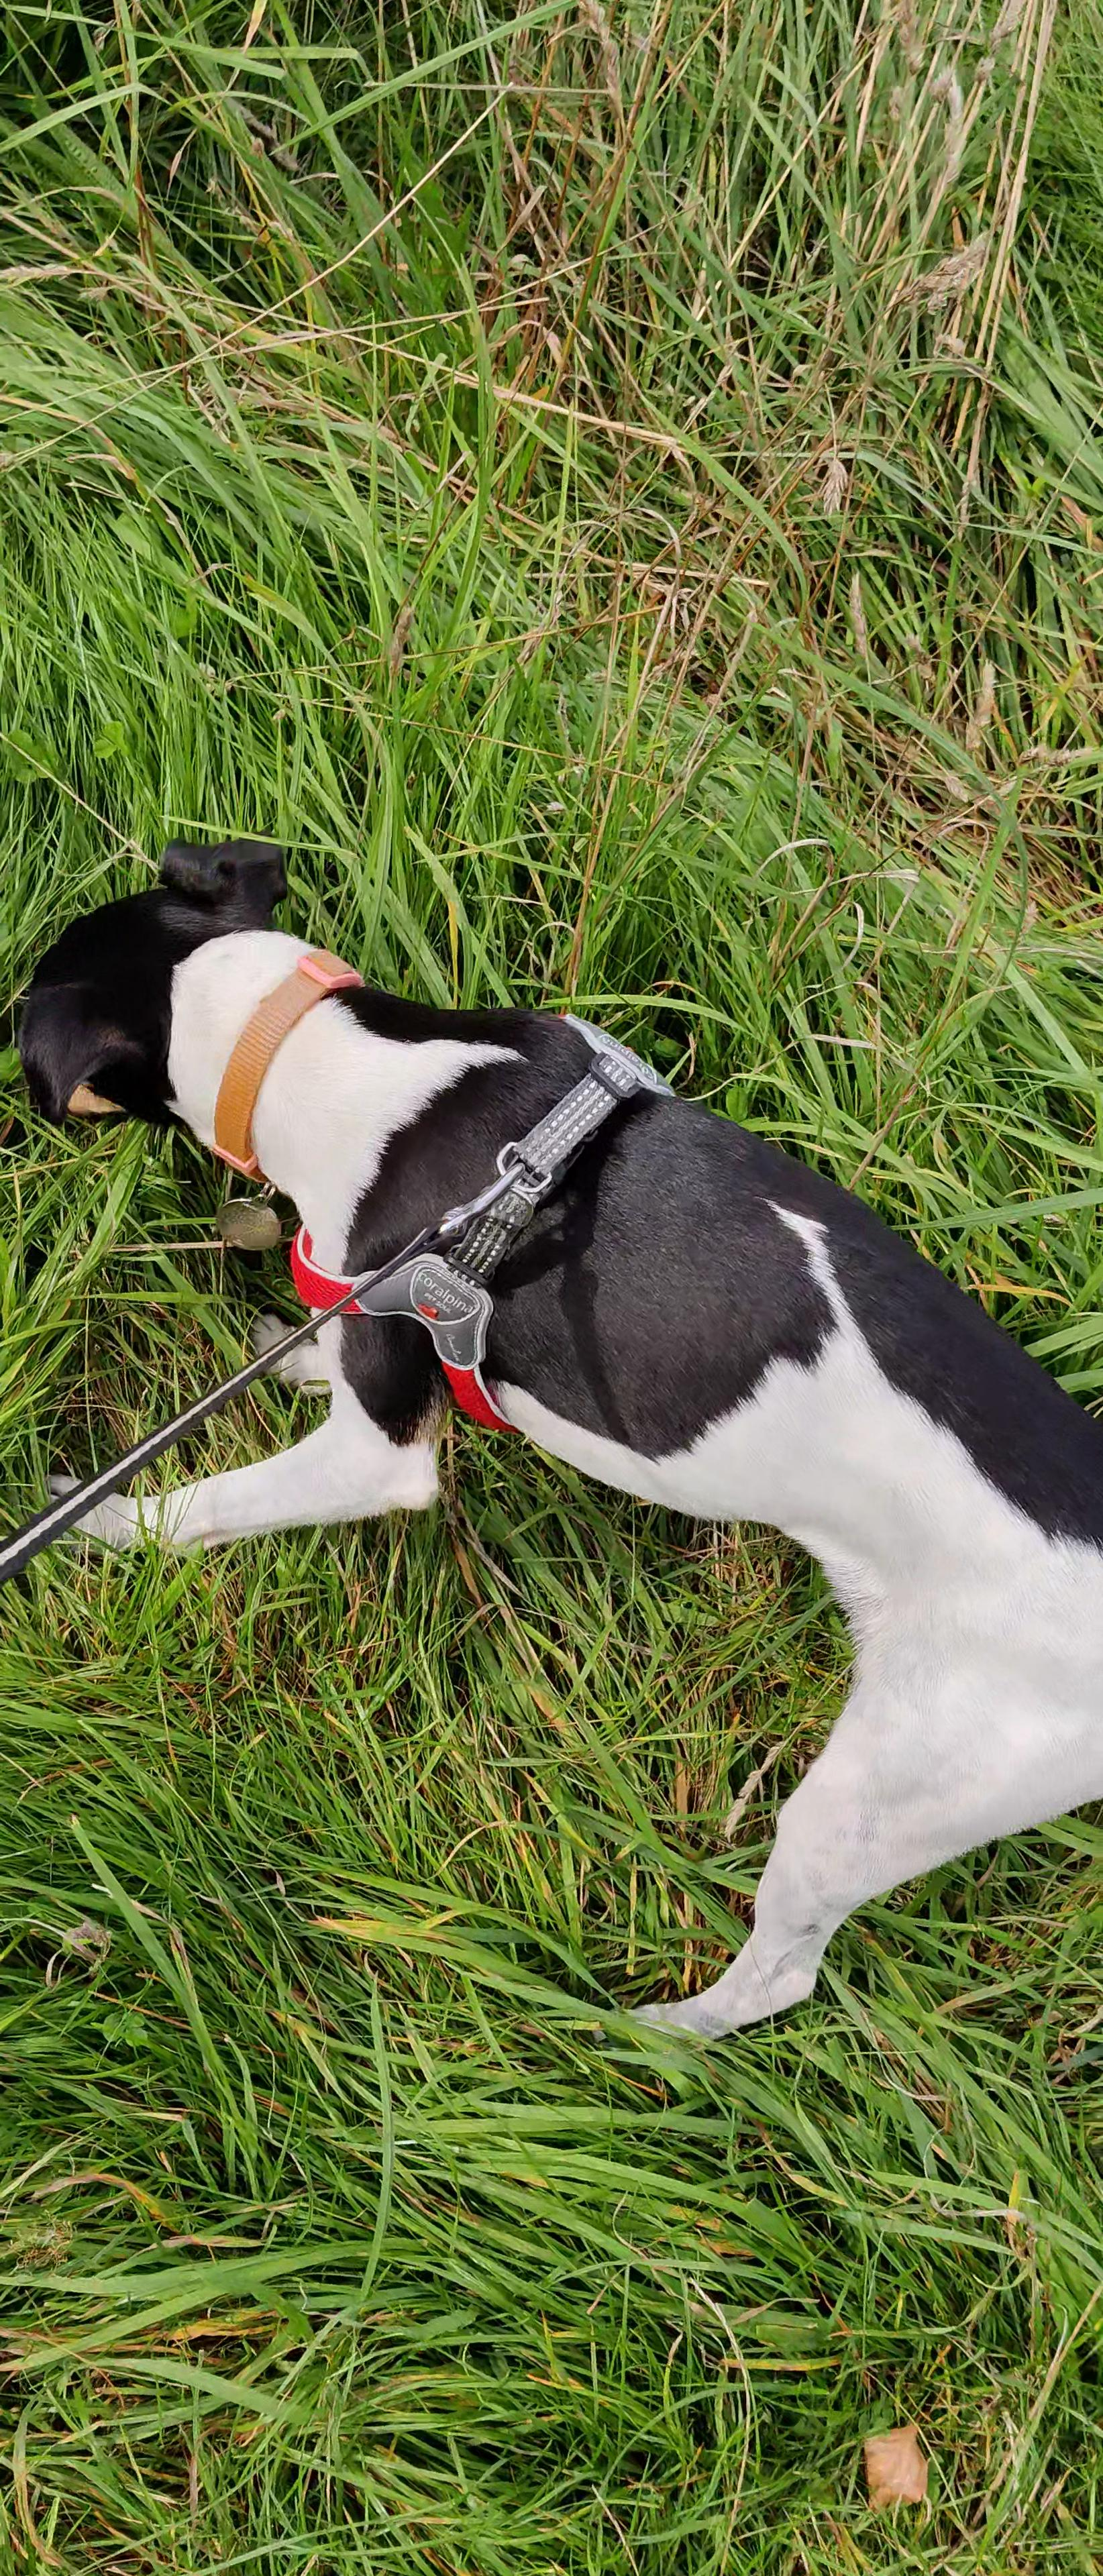Dog: (0, 833, 1103, 2054)
